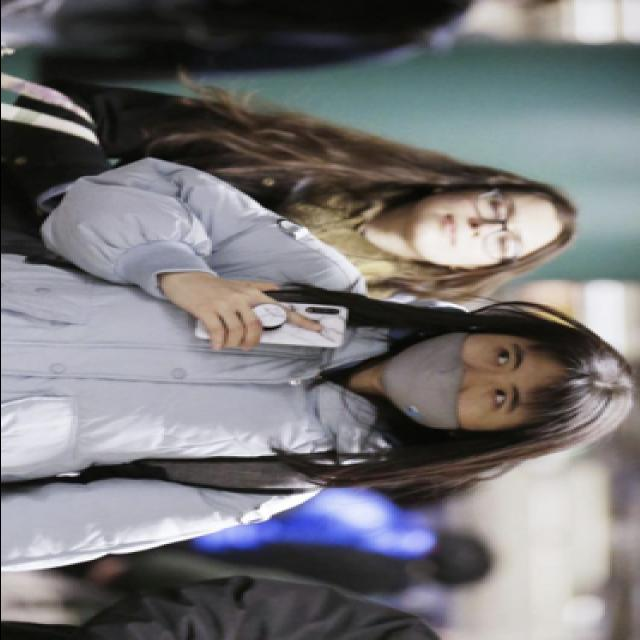with_mask: (381, 328, 525, 432)
without_mask: (408, 186, 528, 266)
